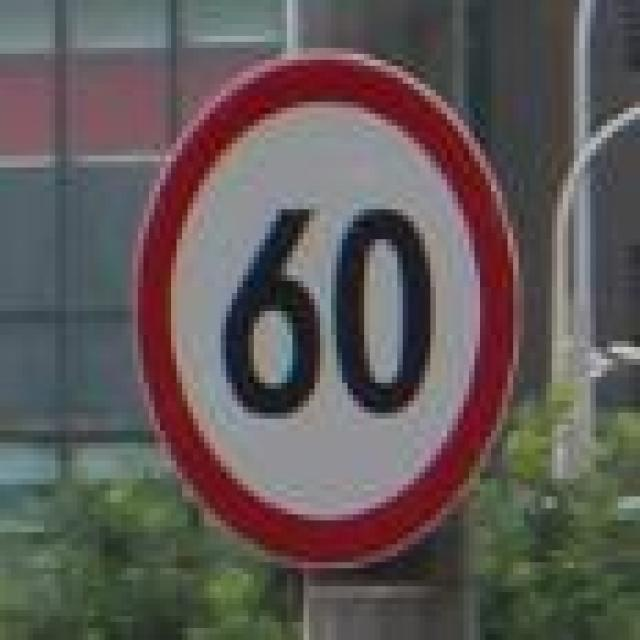speed limit 60: (136, 46, 520, 573)
